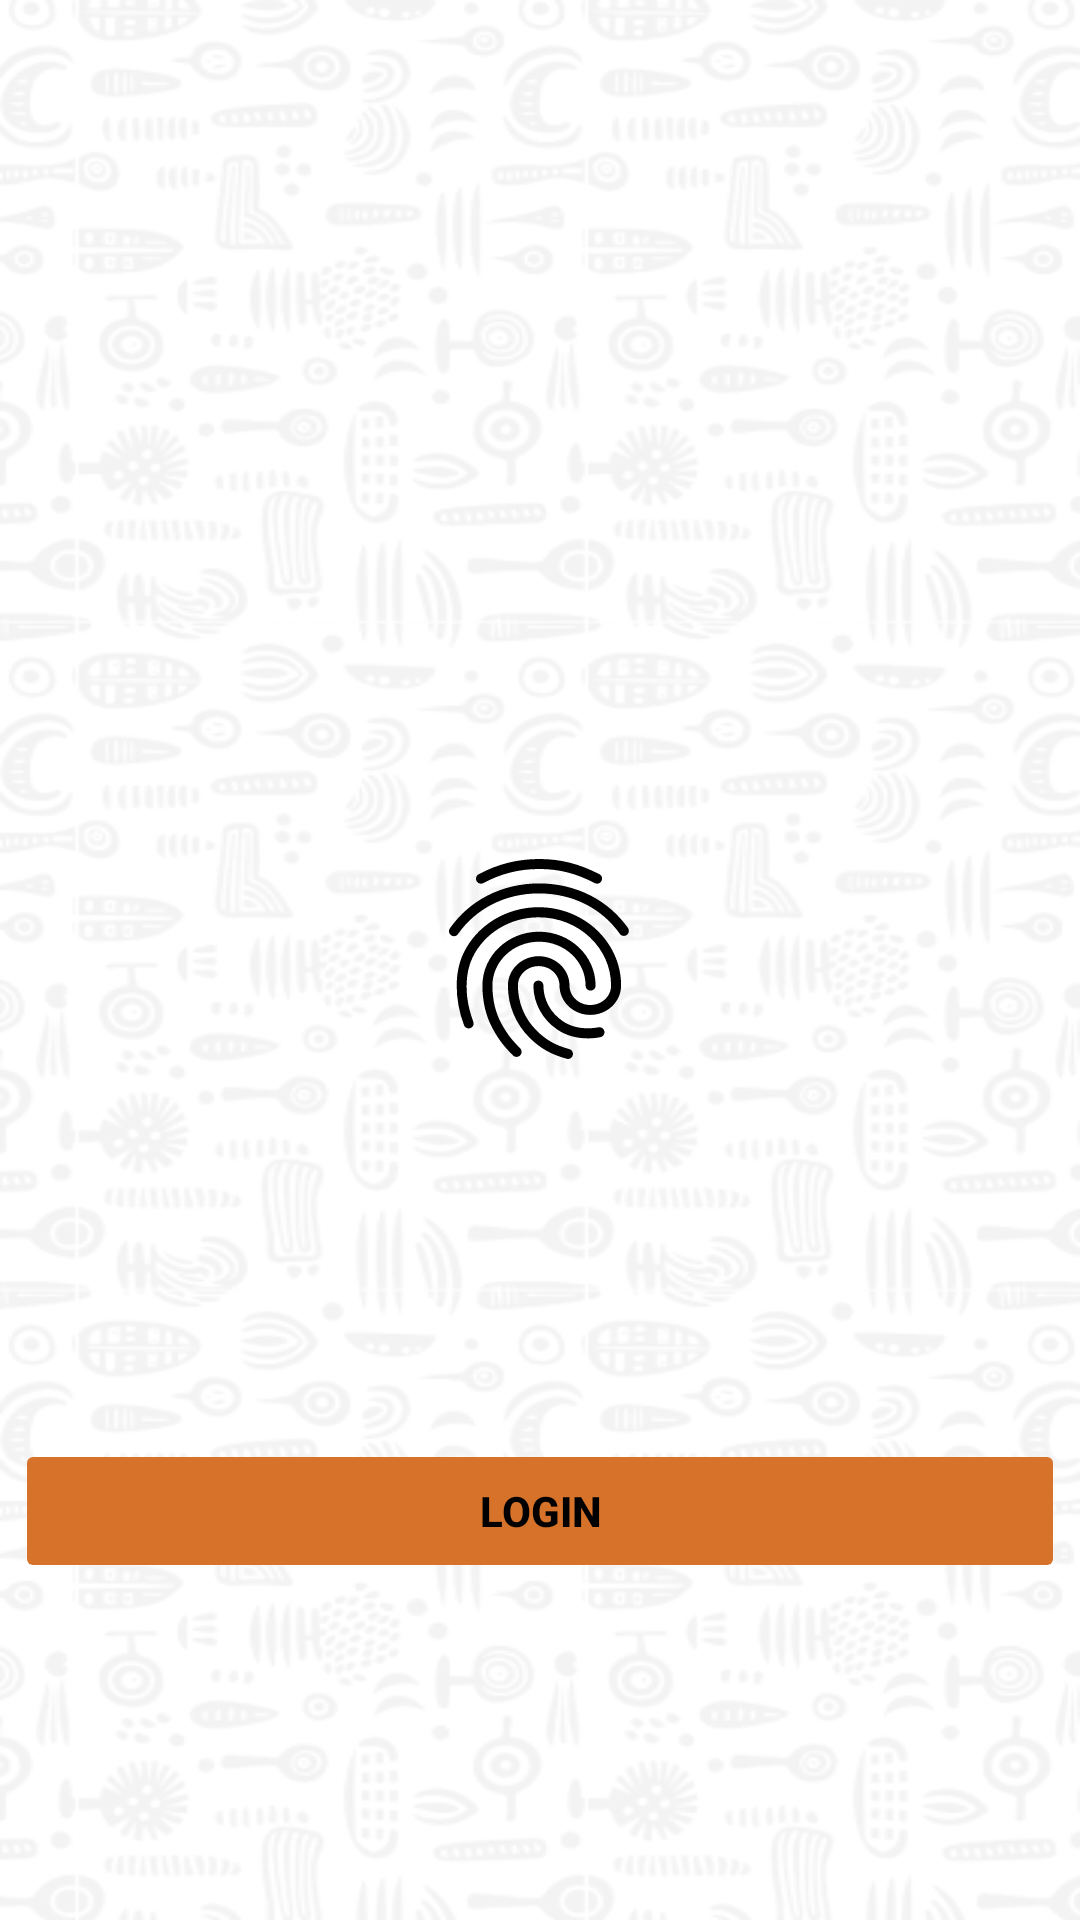

Named icons in this screenshot (1080×1920) and their bounding boxes, Rect(x1, y1, x2, y2):
fingerprint: Rect(449, 859, 629, 1059)
